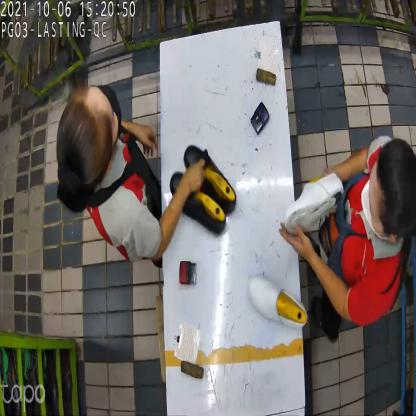shoes: (249, 173, 343, 332), (170, 144, 238, 235)
stamp: (251, 100, 271, 136), (178, 256, 196, 288)
